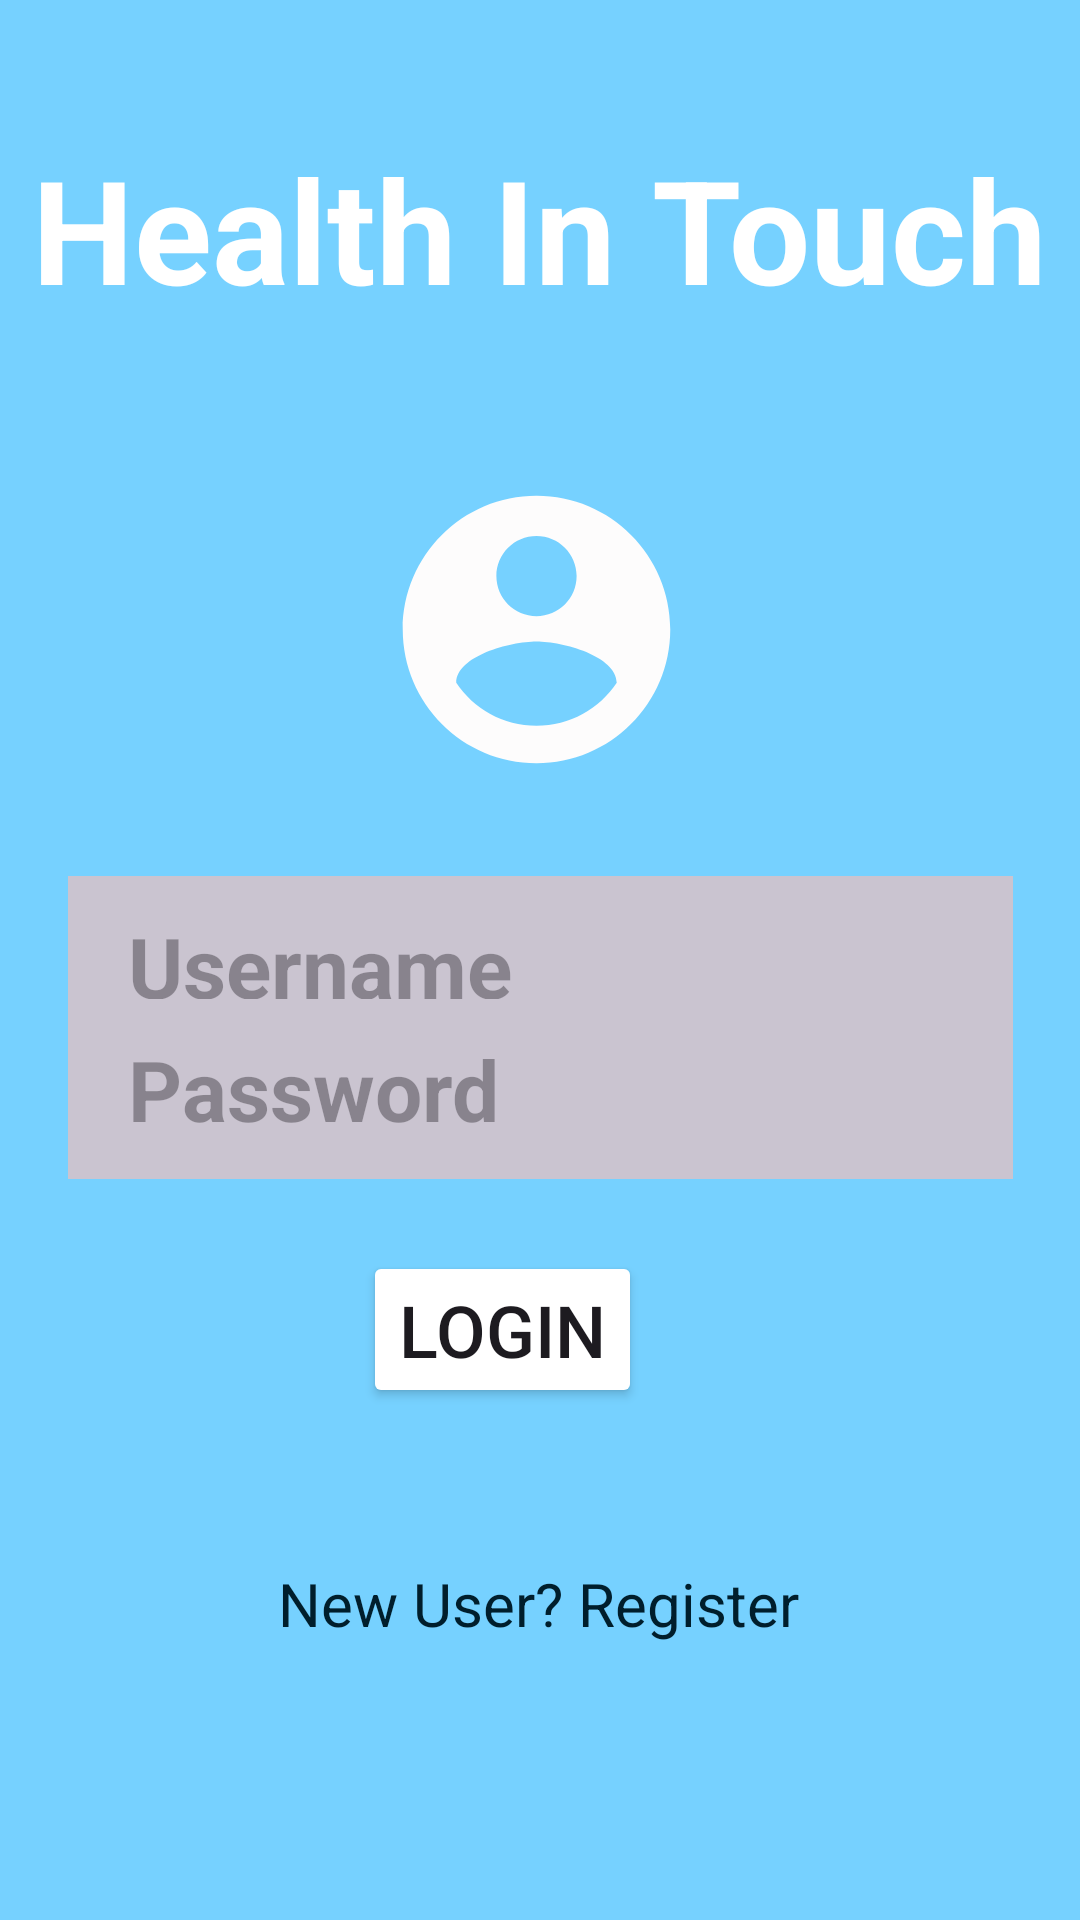

Where icons sit on this 1080px×1920px app screen, as [x1,y1,x2,y2]:
account circle: [402,495,671,764]
